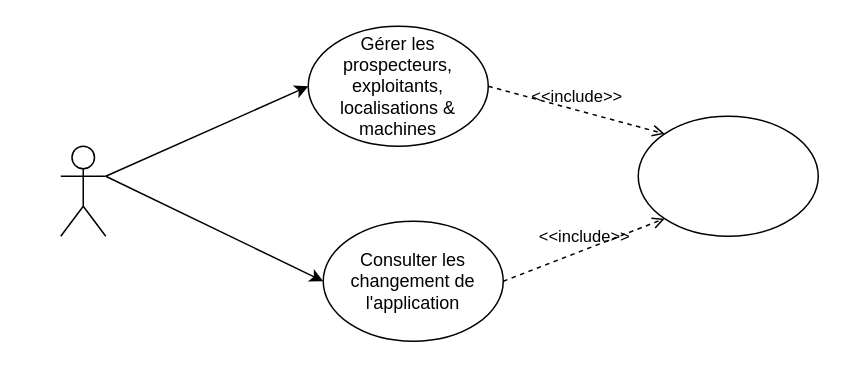
This 845x368 diagram has some shape labels left out. The centre of each missing label's shape, as x and y in pixels:
"Administrateur" belongs at [82,190].
"S'authentifier" belongs at [727,175].
